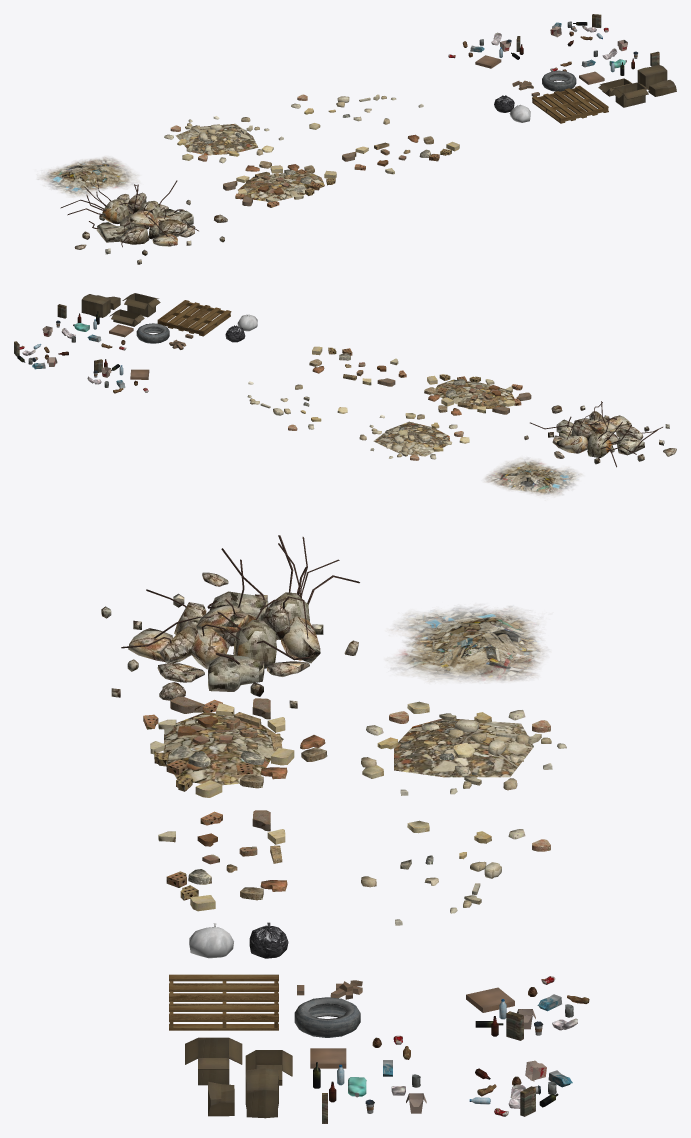
Rendered from props.glb.
The picture shows the model from 3 angles, top to bottom: view 1: azimuth 30°, elevation 25°; view 2: azimuth 150°, elevation 25°; view 3: azimuth 270°, elevation 25°; orthographic projection. The views are drawn at different scales.
Visible parts, largest first — view 1: debris, debris_03, debris_01, debris_04, TB, debris_05, Trash_M_01, Box_T_03, debris_02, Trash_M, Tire, Box_T; view 2: debris, debris_03, debris_01, debris_04, TB, debris_05, Trash_M_01, Box_T_03, debris_02, Box_T, Tire, Trash_M (+1 smaller); view 3: debris, debris_03, debris_01, debris_04, TB, debris_05, Trash_M_01, Tire, Trash_M, Box_T_03, debris_02, Box_T (+4 smaller).
Boxes of the visible parts, x1=… form: debris: x1=60, y1=178, x2=227, y2=264; debris_03: x1=223, y1=161, x2=336, y2=207; debris_01: x1=164, y1=116, x2=283, y2=163; debris_04: x1=40, y1=157, x2=137, y2=196; TB: x1=532, y1=85, x2=608, y2=123; debris_05: x1=342, y1=134, x2=459, y2=174; Trash_M_01: x1=448, y1=32, x2=523, y2=68; Box_T_03: x1=611, y1=82, x2=649, y2=107; debris_02: x1=291, y1=94, x2=423, y2=129; Trash_M: x1=550, y1=14, x2=608, y2=46; Tire: x1=542, y1=70, x2=576, y2=91; Box_T: x1=637, y1=65, x2=667, y2=89; debris: x1=524, y1=401, x2=676, y2=467; debris_03: x1=424, y1=374, x2=531, y2=415; debris_01: x1=359, y1=413, x2=469, y2=460; debris_04: x1=485, y1=458, x2=581, y2=495; TB: x1=157, y1=300, x2=231, y2=336; debris_05: x1=309, y1=346, x2=406, y2=386; Trash_M_01: x1=87, y1=359, x2=149, y2=393; Box_T_03: x1=122, y1=293, x2=160, y2=317; debris_02: x1=247, y1=381, x2=347, y2=430; Box_T: x1=81, y1=294, x2=110, y2=317; Tire: x1=136, y1=323, x2=169, y2=343; Trash_M: x1=14, y1=341, x2=68, y2=369; debris: x1=101, y1=535, x2=359, y2=708; debris_03: x1=143, y1=696, x2=327, y2=797; debris_01: x1=361, y1=701, x2=566, y2=795; debris_04: x1=393, y1=606, x2=544, y2=682; TB: x1=169, y1=974, x2=278, y2=1030; debris_05: x1=158, y1=810, x2=287, y2=911; Trash_M_01: x1=466, y1=976, x2=589, y2=1040; Tire: x1=294, y1=997, x2=360, y2=1037; Trash_M: x1=469, y1=1060, x2=572, y2=1116; Box_T_03: x1=185, y1=1037, x2=242, y2=1085; debris_02: x1=361, y1=820, x2=550, y2=925; Box_T: x1=245, y1=1068, x2=278, y2=1118.
Bounding box in the file's own units: 19.42 × 1.43 × 6.97.
Materials: 7 (7 with a texture image).
